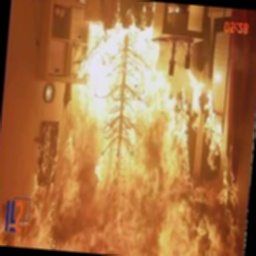fire: (0, 11, 256, 256)
